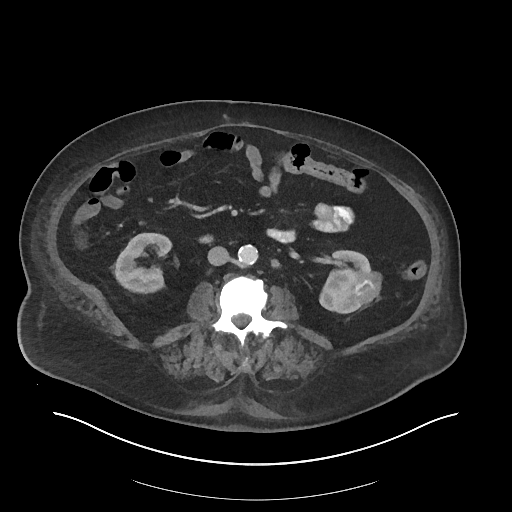Lesion: (346, 270, 386, 311)
